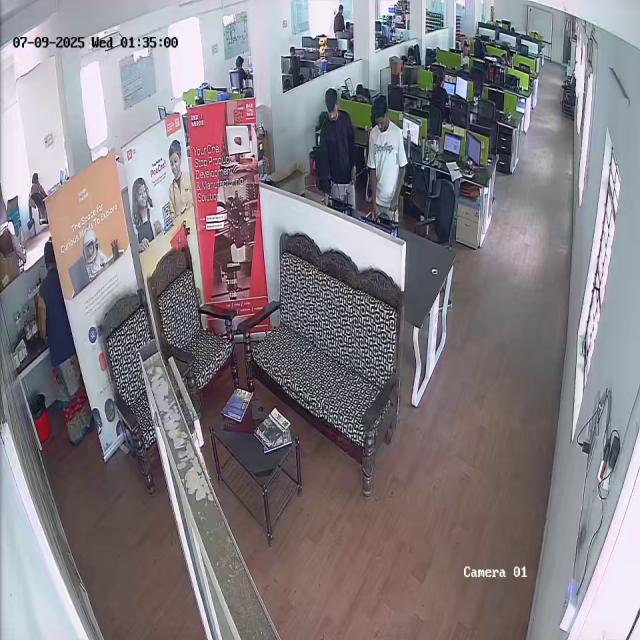person: (27, 237, 74, 441), (311, 86, 358, 208), (367, 97, 408, 224), (431, 69, 451, 109), (27, 172, 50, 200)
